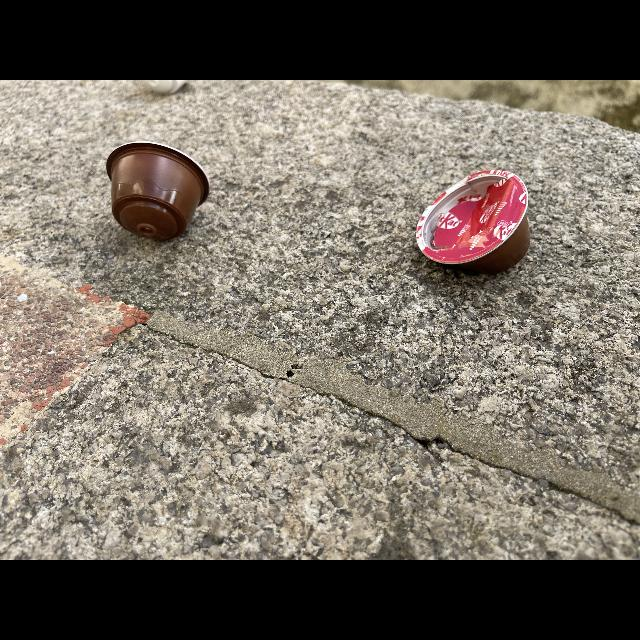damaged_capsule: (411, 166, 545, 286)
intact_capsule: (88, 140, 224, 250)
